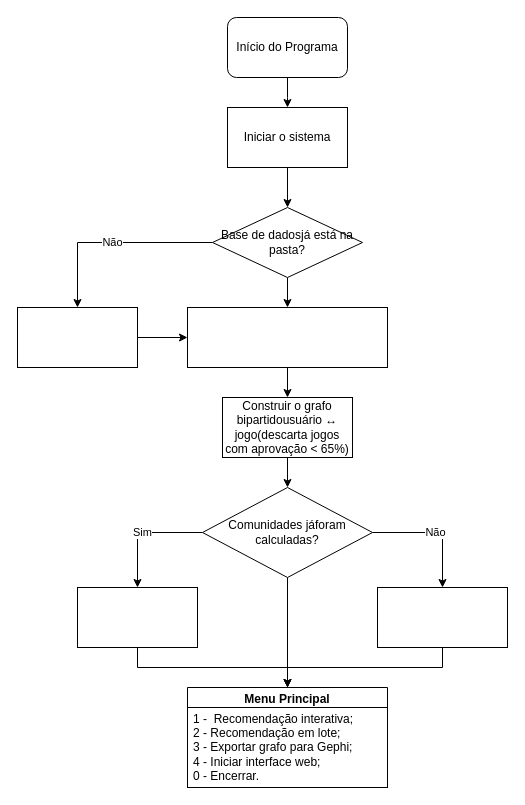
Image size: 525x805. Some labels were removed from this diagram. Here are the shapes that lost their labels. From the top down, the centre of each, then its label:
(x=77, y=337): Baixar e extraira base do Zenodo
(x=287, y=337): Carregar títulos dos jogos, tags, gêneros e estúdios e calcular pesos (IDF)
(x=137, y=617): Ler comunidades salvas
(x=442, y=617): Detectar comunidades (Louvain) e salvar em cache
